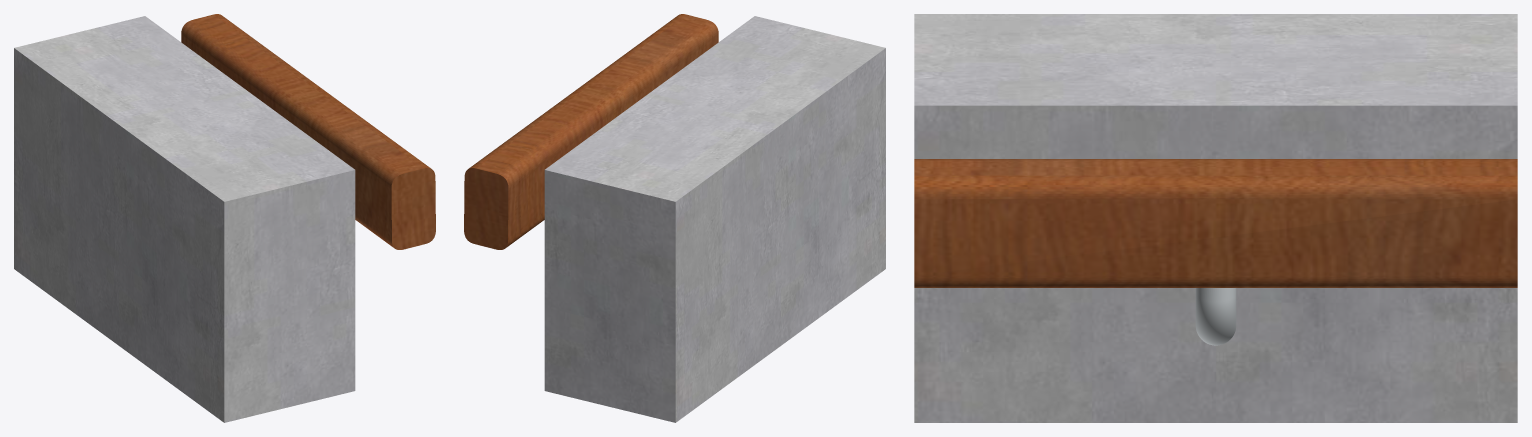
The model's file is handrail-wall-bent-bracket.glb.
The picture shows the model from 3 angles, left to right: view 1: azimuth 30°, elevation 25°; view 2: azimuth 150°, elevation 25°; view 3: azimuth 270°, elevation 25°; orthographic projection. The views are drawn at different scales.
Visible parts, largest first — view 1: 钢筋混凝土墙, 木扶手, 墙面抹面层; view 2: 钢筋混凝土墙, 木扶手, 墙面抹面层; view 3: 墙面抹面层, 木扶手, 钢筋混凝土墙, 镀铬连续弯管.
Part boxes in pixels (x1,y1,x2,y2): 钢筋混凝土墙: [14, 19, 340, 422]; 木扶手: [181, 14, 435, 249]; 墙面抹面层: [131, 16, 355, 394]; 钢筋混凝土墙: [559, 19, 885, 422]; 木扶手: [464, 14, 718, 249]; 墙面抹面层: [544, 16, 768, 394]; 墙面抹面层: [914, 95, 1517, 422]; 木扶手: [914, 159, 1517, 287]; 钢筋混凝土墙: [914, 14, 1517, 95]; 镀铬连续弯管: [1195, 288, 1236, 345].
Bounding box in the file's own units: 0.2905 × 0.29 × 0.5.
Materials: 5 (3 with a texture image).
